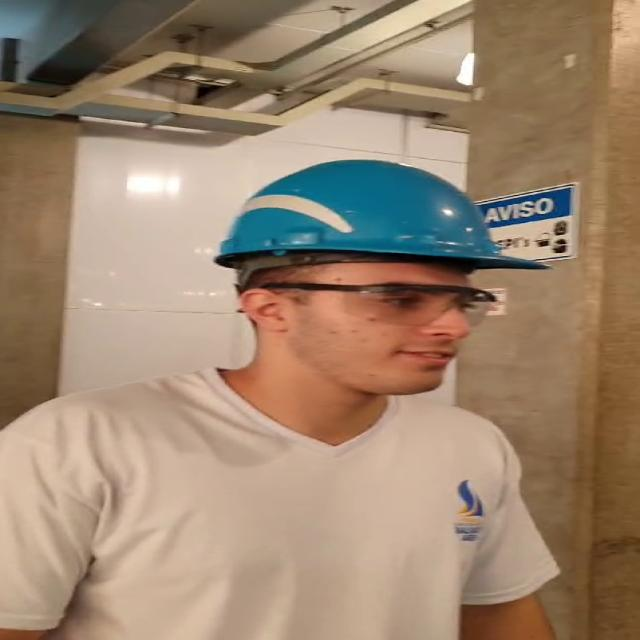oculos-epi: (266, 282, 494, 326)
